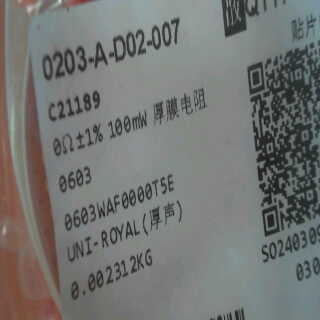0R: (49, 123, 109, 198)
